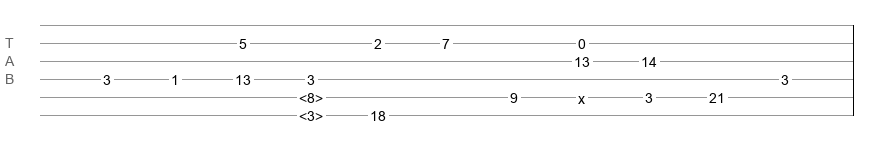0: (578, 36, 586, 46)
1: (171, 72, 179, 82)
13: (235, 72, 251, 82), (574, 54, 590, 64)
14: (641, 54, 657, 64)
18: (370, 108, 386, 118)
2: (374, 36, 382, 46)
21: (709, 90, 725, 100)
3: (103, 72, 111, 82), (307, 72, 315, 82), (645, 90, 653, 100), (781, 72, 789, 82)
5: (239, 36, 247, 46)
7: (442, 36, 450, 46)
9: (510, 90, 518, 100)
harmonic: (299, 108, 323, 118), (299, 90, 323, 100)
x: (578, 91, 585, 99)
